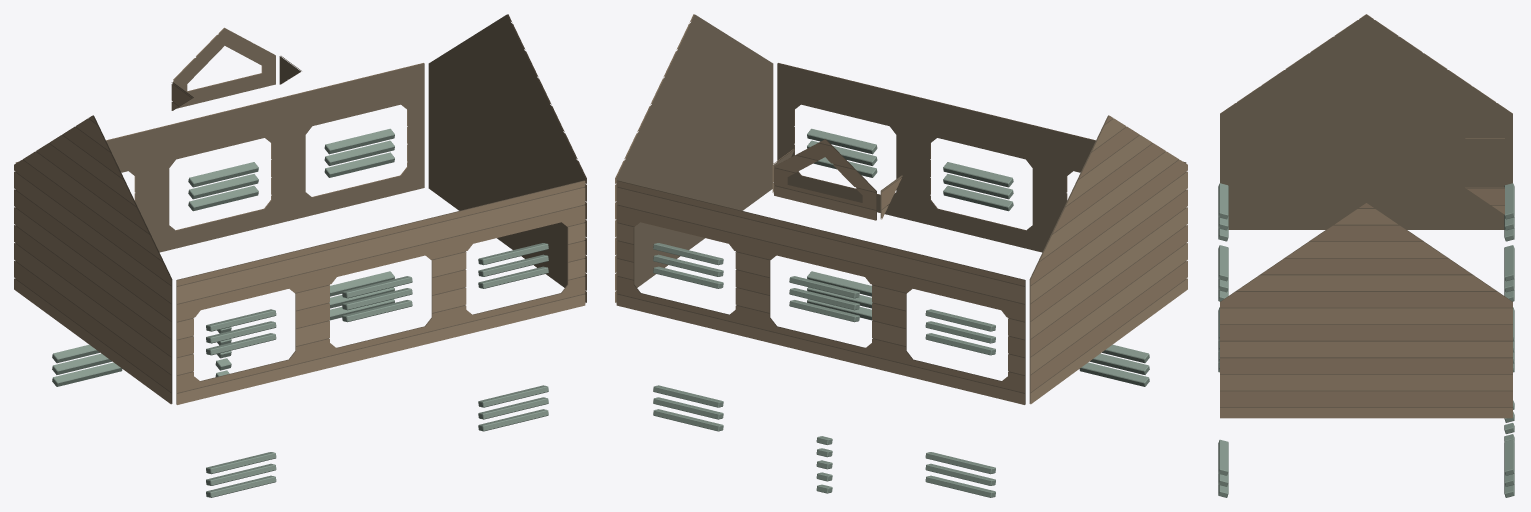
The model's file is retained-house-e-details.glb.
3 views of the same model, side by side, from view 1: azimuth 30°, elevation 25°; view 2: azimuth 150°, elevation 25°; view 3: azimuth 270°, elevation 25° (orthographic). The views are drawn at different scales.
Parts seen in each view (by area): view 1: retained-house-e-details; view 2: retained-house-e-details; view 3: retained-house-e-details.
Part boxes in pixels (left/top/right/bottom): retained-house-e-details: left=14, top=14, right=586, bottom=497; retained-house-e-details: left=615, top=14, right=1187, bottom=497; retained-house-e-details: left=1218, top=14, right=1514, bottom=497.
Size of the model in its own units: 6.1 by 5.22 by 4.1.
